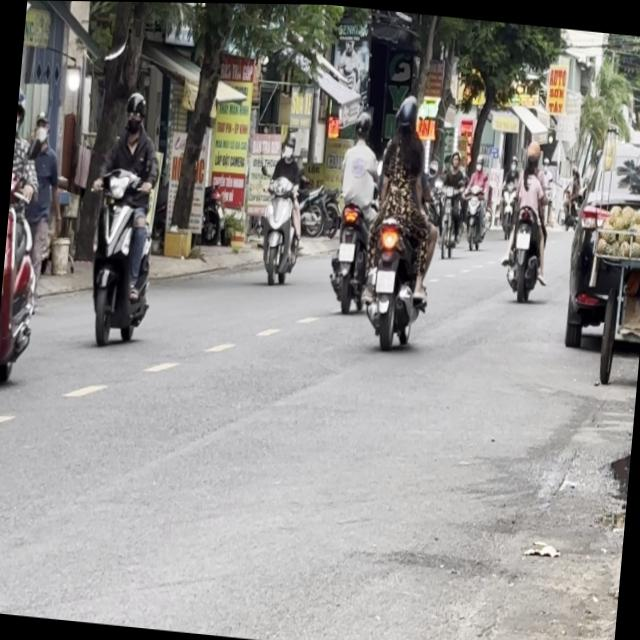helmet: (121, 88, 147, 133), (394, 92, 420, 134), (352, 108, 372, 140), (15, 83, 26, 138), (280, 129, 296, 158)
licenseplate: (80, 84, 168, 351), (360, 87, 447, 353), (0, 78, 57, 395), (324, 104, 386, 311), (255, 125, 310, 284)
nohelmet: (374, 268, 394, 291), (337, 239, 355, 260)
